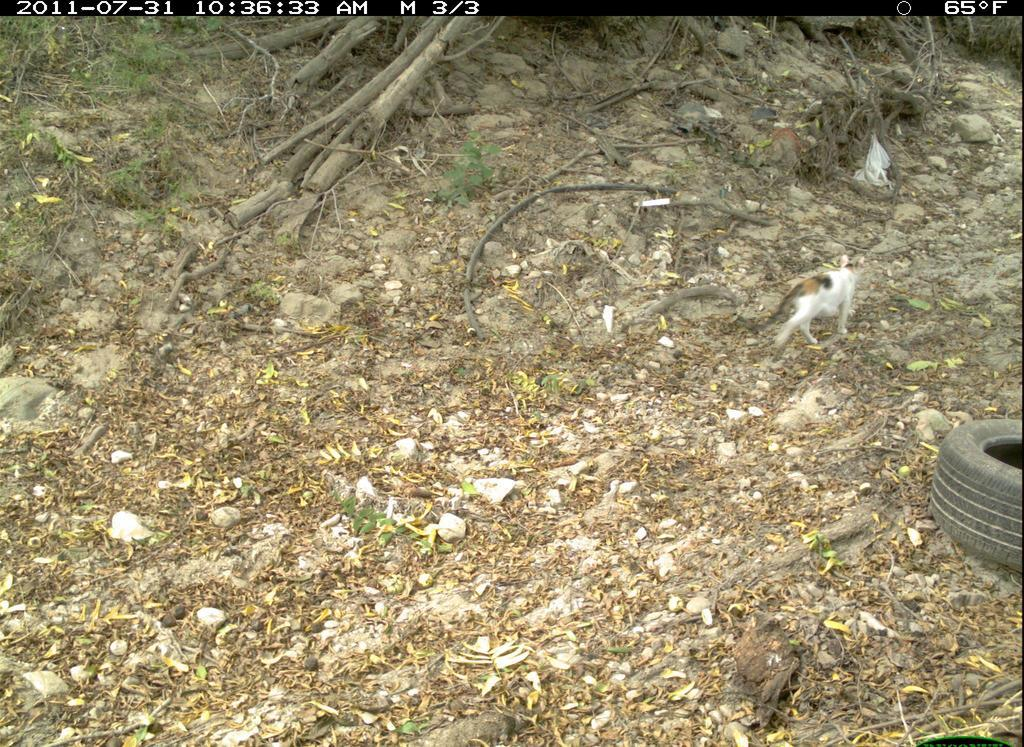cat: (763, 251, 872, 361)
